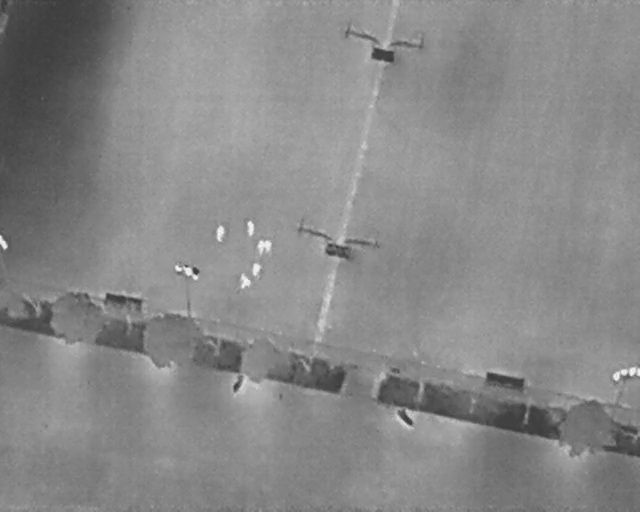Person: (246, 219, 255, 237), (240, 272, 250, 288), (216, 224, 225, 241), (252, 262, 261, 277), (257, 239, 265, 255), (265, 238, 272, 254)
